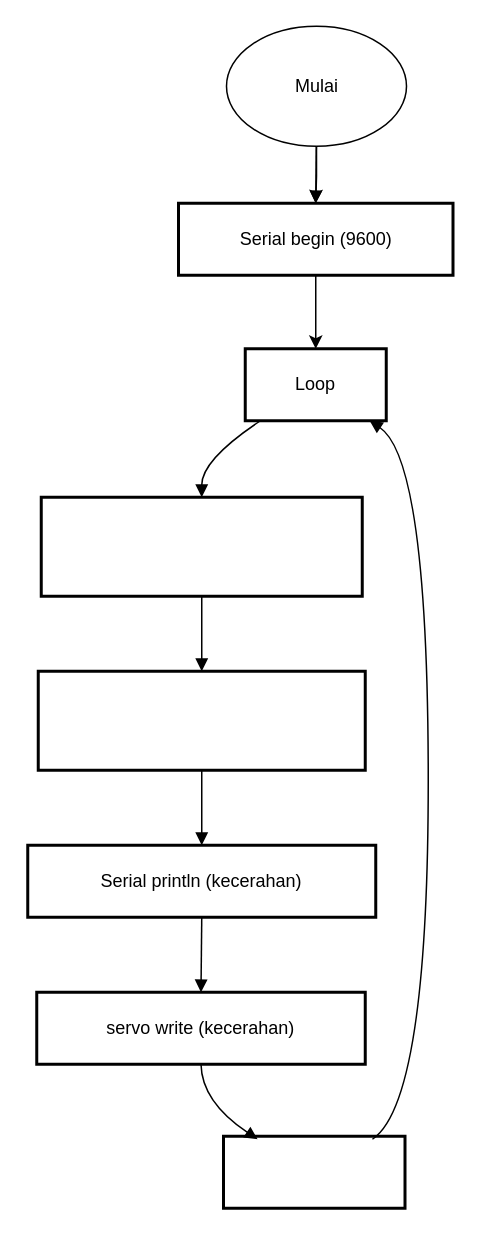
This 480x1236 diagram has some shape labels left out. The shapes that lost their labels are listed below. From the top down, each one's box as (x1, y1, x2, y2) in pixels, then its label:
(39, 495, 363, 597): nilaipot = analogRead (pinpot)
(36, 669, 366, 771): kecerahan = nilaipot * (180.0 / 1023.0)
(221, 1134, 406, 1209): delay 10
